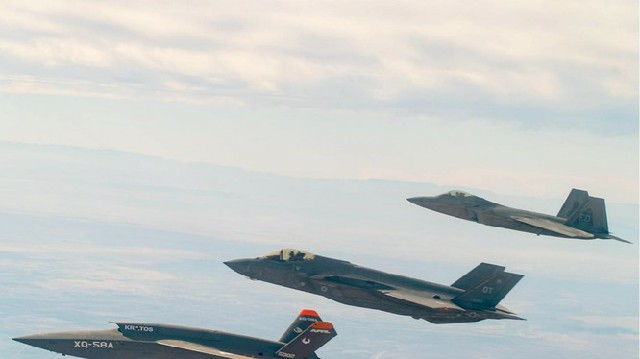maybay_muctieu: (226, 246, 525, 324), (16, 308, 339, 359), (412, 182, 622, 247)
